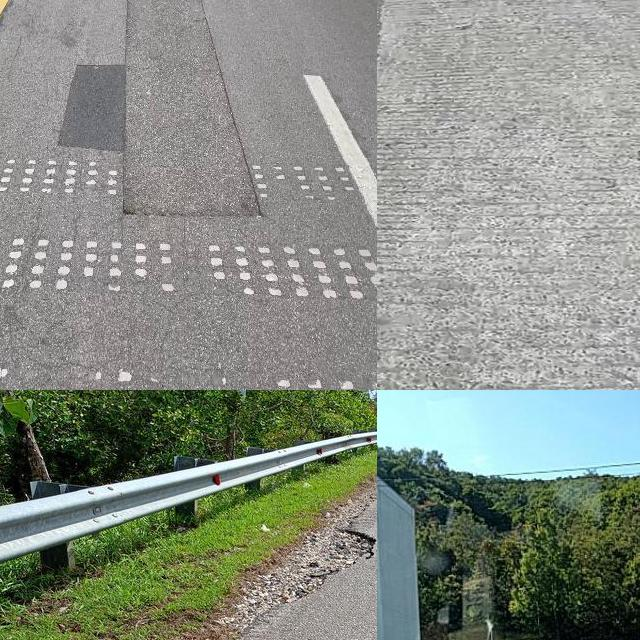Pinggir: (210, 505, 377, 640)
Sambungan: (377, 0, 640, 390), (60, 0, 265, 211)
